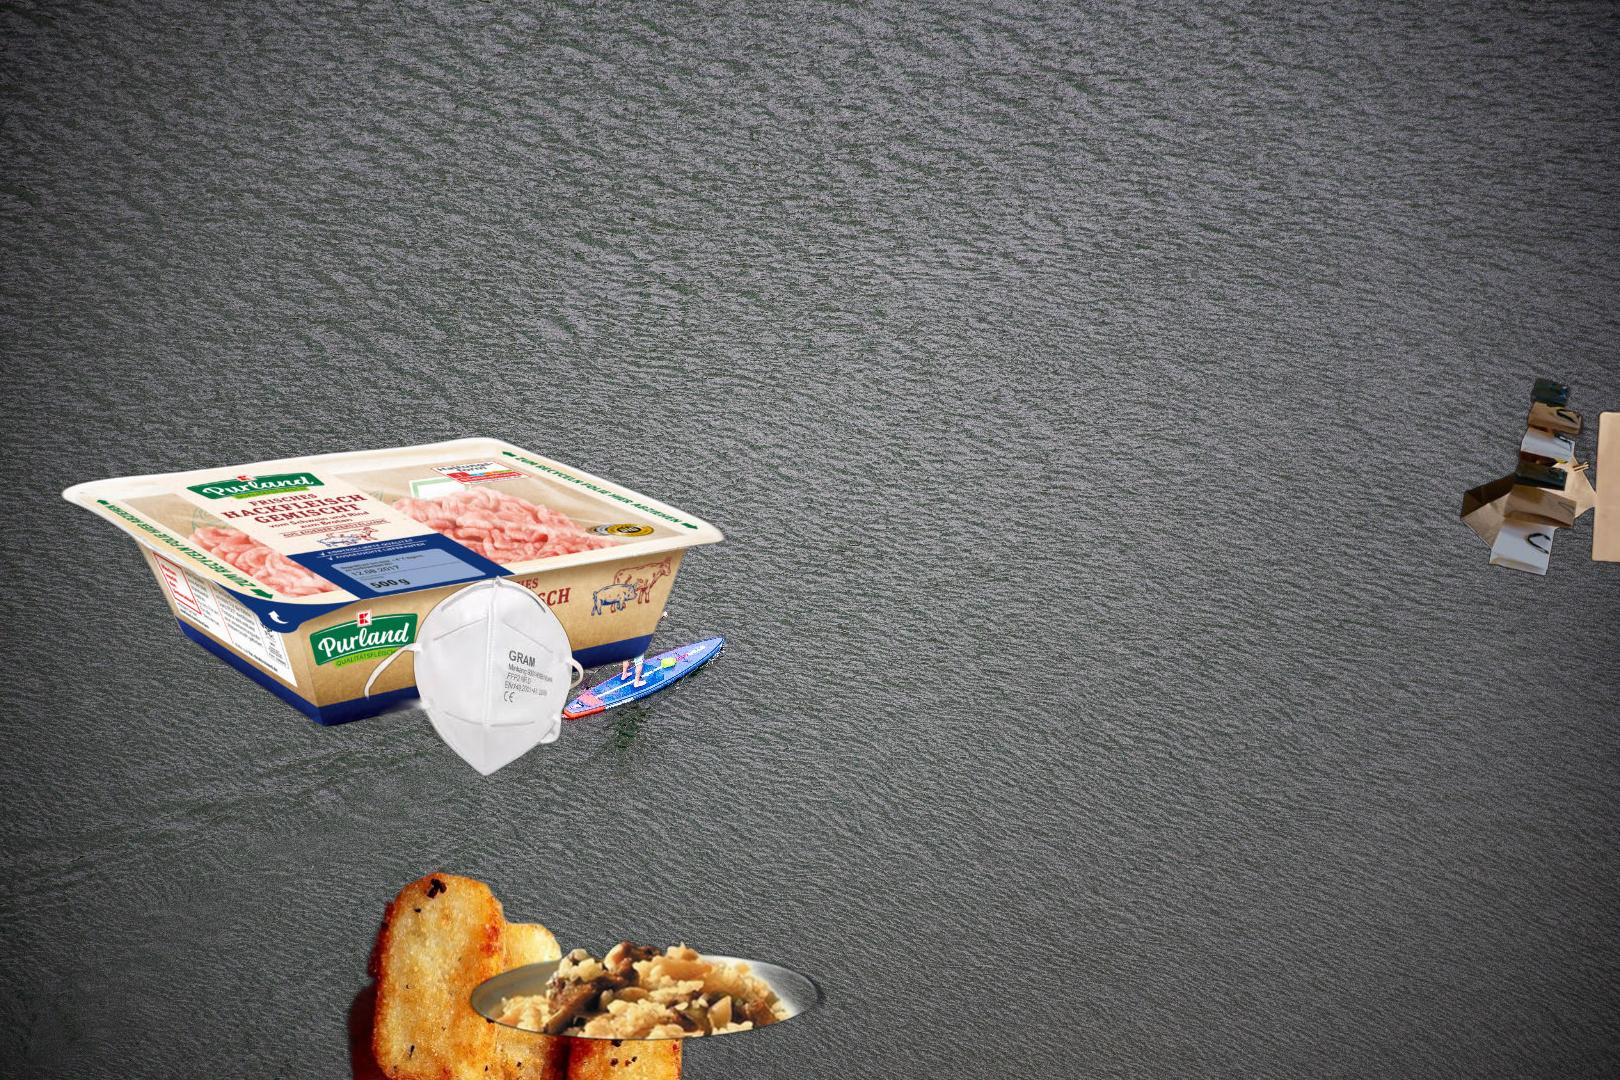biological: (339, 867, 689, 1080), (462, 937, 829, 1080)
paper-bag: (1458, 375, 1620, 579)
trash: (360, 573, 586, 790)
trashbox-cardboard: (53, 434, 733, 730)
